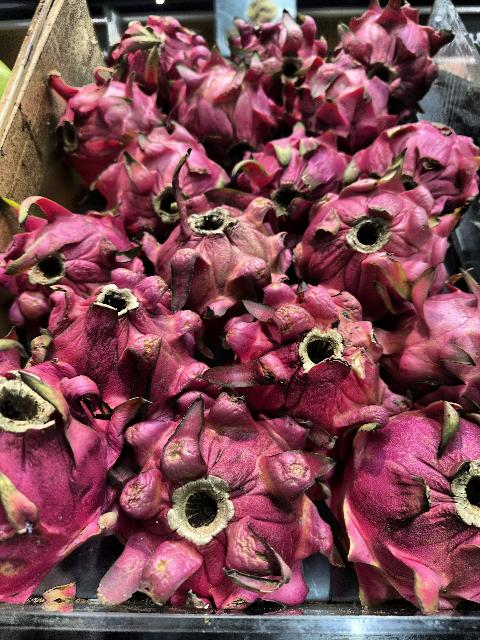buah-naga-belum-matang: (146, 174, 290, 306)
buah-naga-matang: (115, 402, 331, 620), (0, 324, 112, 606), (346, 382, 480, 612), (22, 263, 190, 407), (286, 171, 456, 307), (218, 279, 388, 415), (0, 182, 142, 314), (346, 121, 480, 231), (89, 133, 247, 224), (168, 55, 286, 157), (48, 68, 172, 164), (337, 0, 445, 108), (296, 48, 407, 146), (382, 290, 480, 398), (236, 132, 346, 225), (229, 14, 329, 98), (109, 17, 209, 82)
